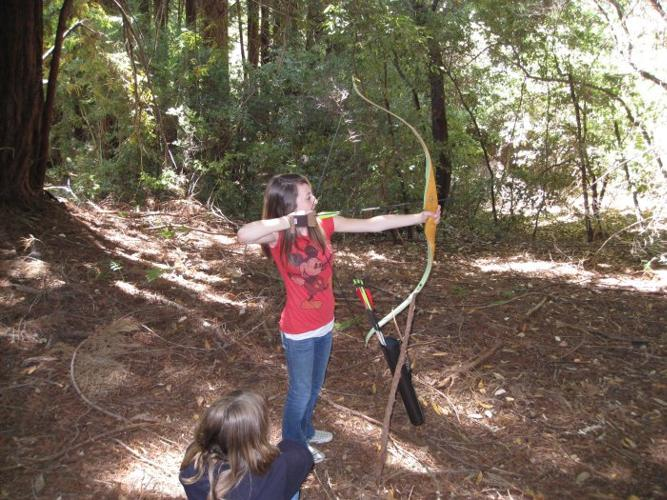person: (236, 164, 442, 468)
